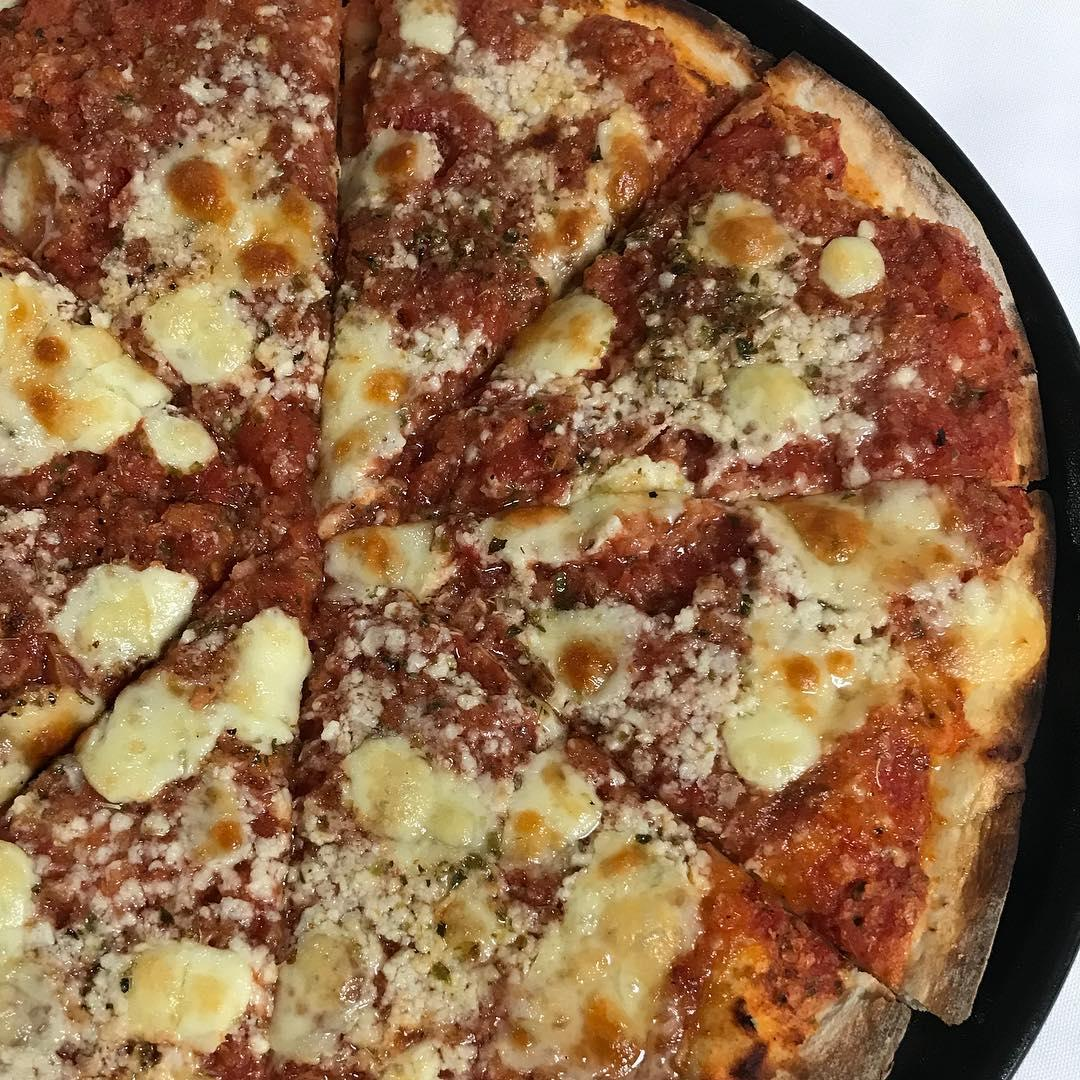Cheese: (365, 773, 656, 1059), (755, 501, 920, 764), (95, 628, 312, 815), (141, 127, 296, 361), (9, 271, 141, 460), (331, 315, 424, 473), (141, 915, 248, 1051), (73, 559, 185, 662), (537, 613, 632, 710), (513, 297, 612, 380), (809, 225, 897, 294)
Pizza: (0, 0, 1039, 1080)
